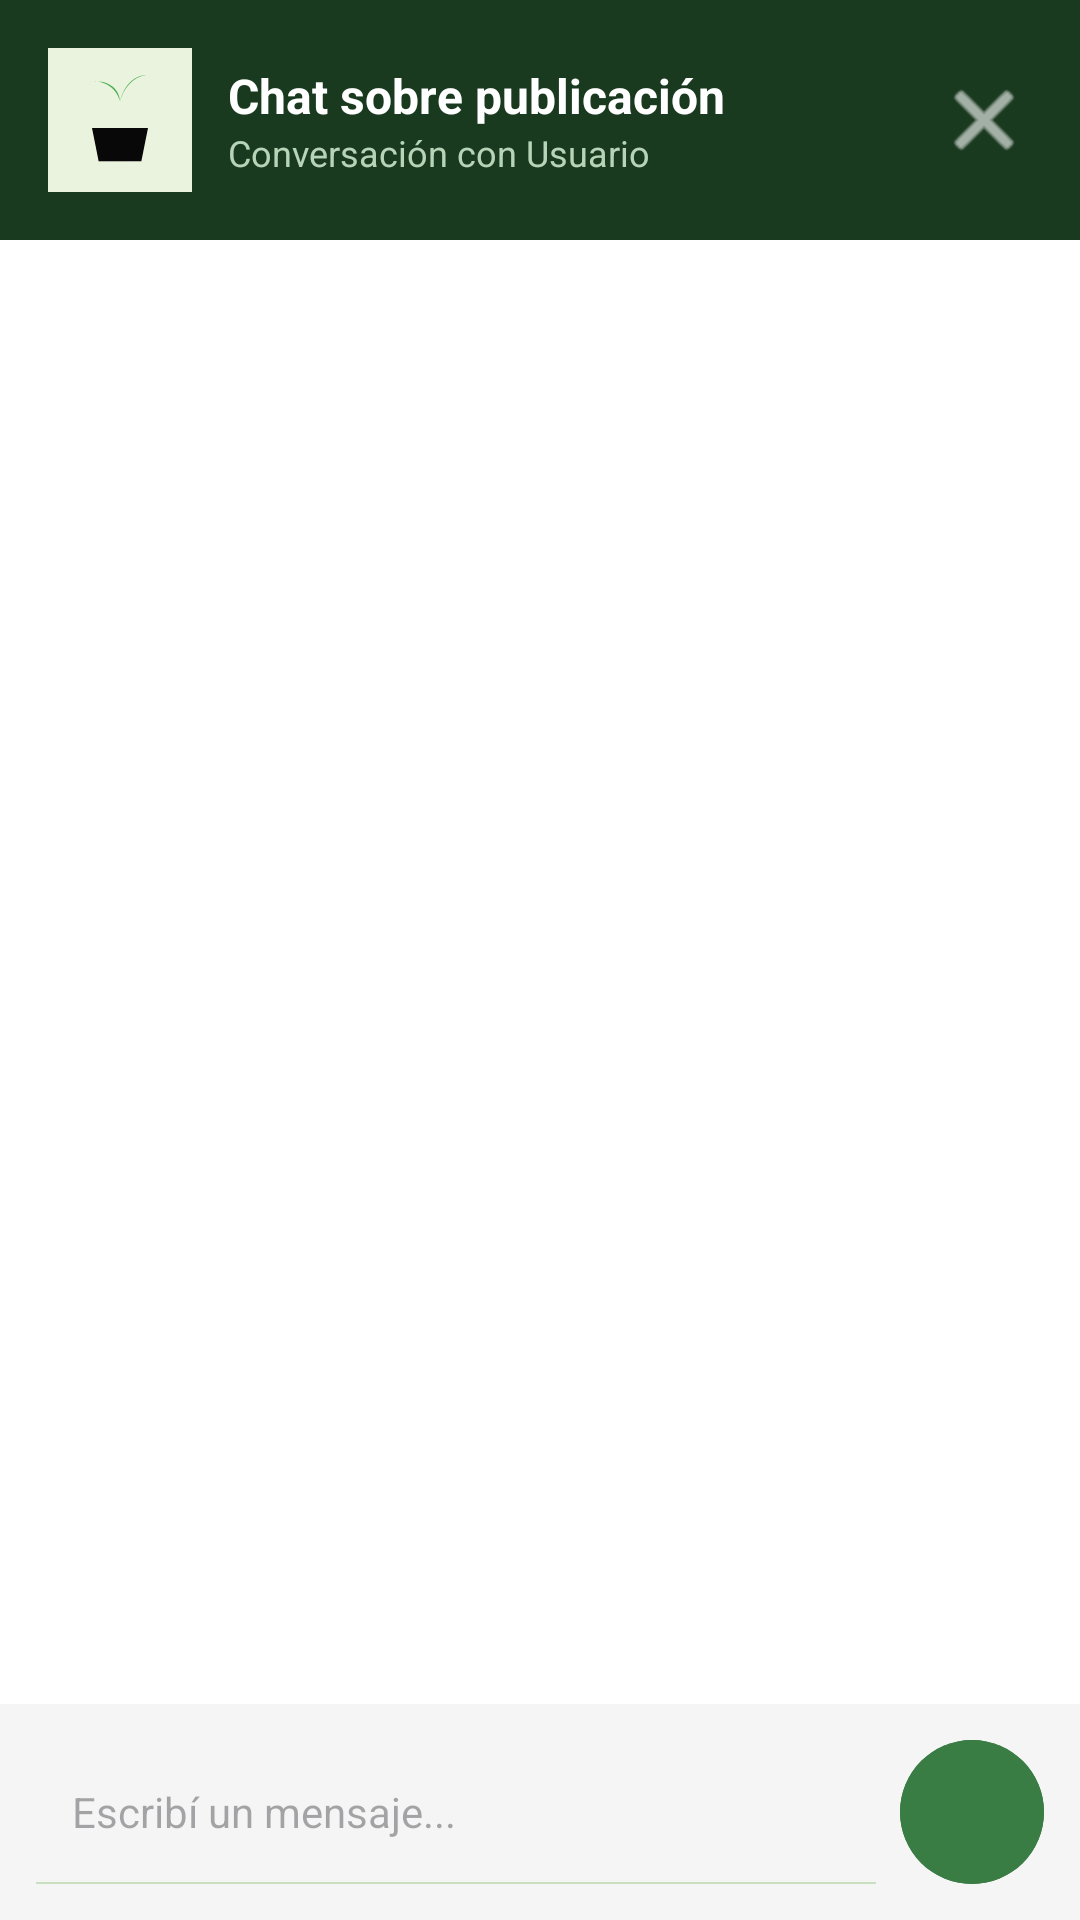

Where icons sit on this 1080 × 1920 app screen, as [left=x1, top=y1, right=x2, bottom=y2]:
close clear cancel: [left=954, top=90, right=1014, bottom=150]
planta: [left=48, top=48, right=192, bottom=192]
